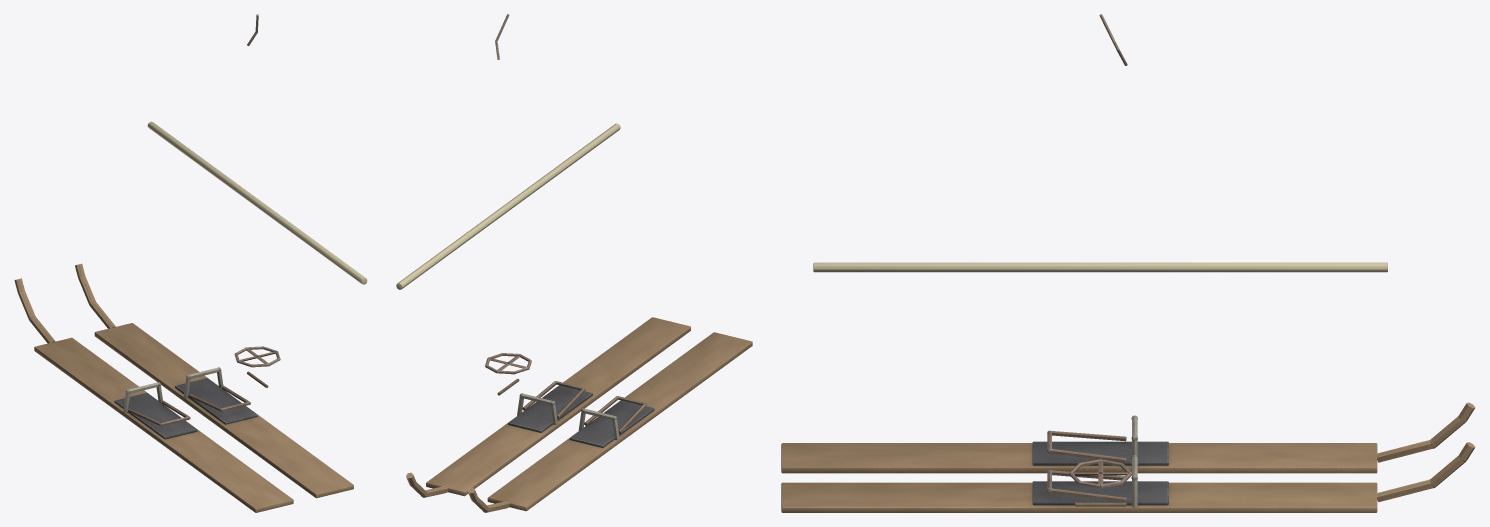
File: taiga_skis.glb
The picture shows the model from 3 angles, left to right: view 1: azimuth 30°, elevation 25°; view 2: azimuth 150°, elevation 25°; view 3: azimuth 270°, elevation 25°; orthographic projection. The views are drawn at different scales.
Visible parts, largest first — view 1: taiga_skis; view 2: taiga_skis; view 3: taiga_skis.
Part boxes in pixels (x1,y1,x2,y2): taiga_skis: (14, 14, 367, 512); taiga_skis: (396, 14, 752, 512); taiga_skis: (781, 14, 1475, 512).
Size of the model in its own units: 0.5169 by 1.34 by 1.63.
Materials: 1 (1 with a texture image).
